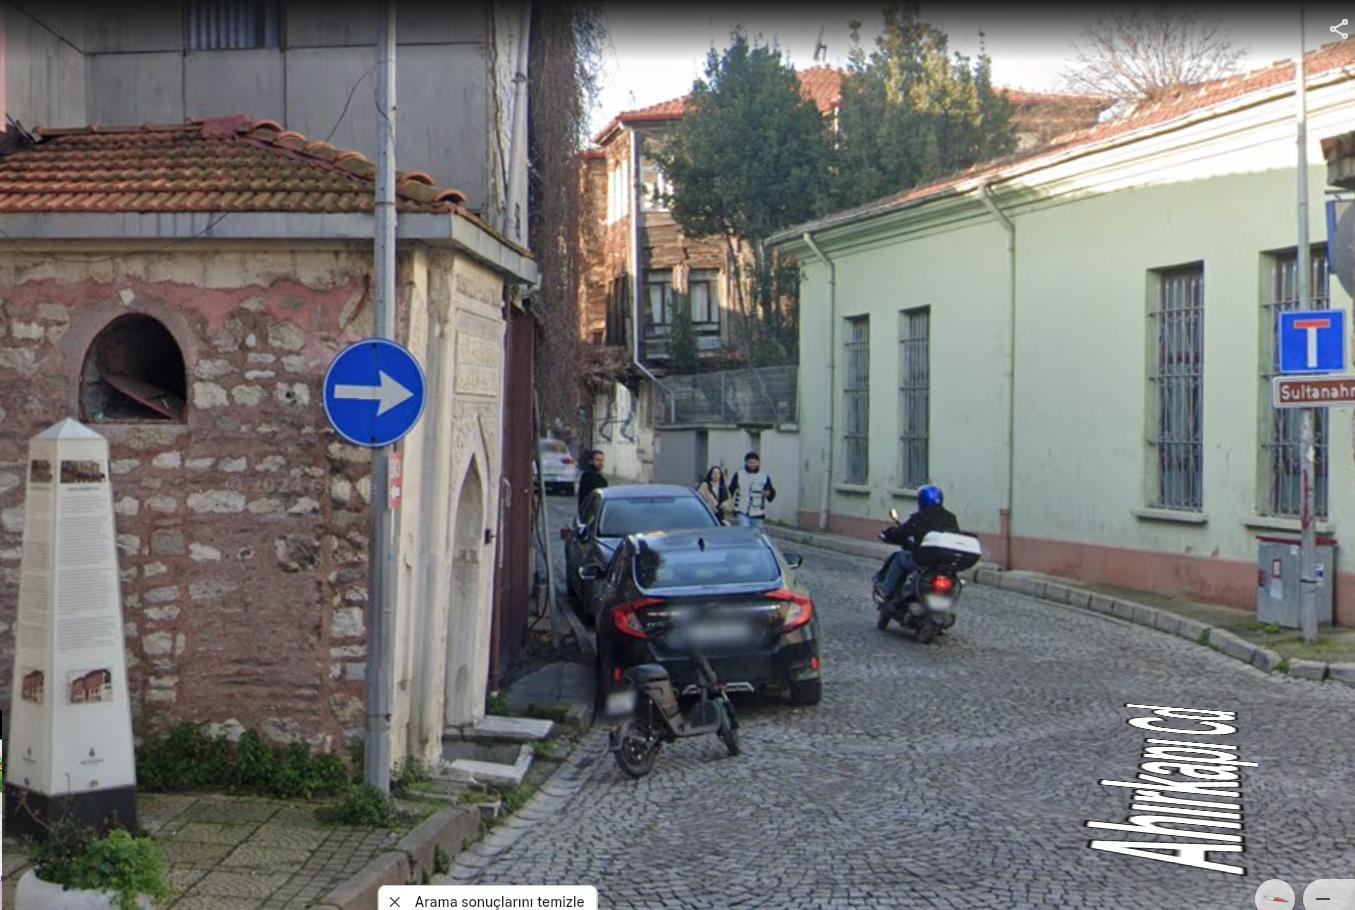turnleft: (324, 336, 425, 443)
